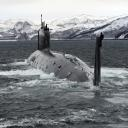submarine: (16, 9, 110, 93)
